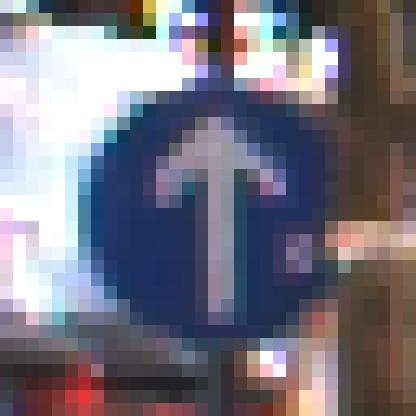AheadOnly: (66, 66, 352, 352)
